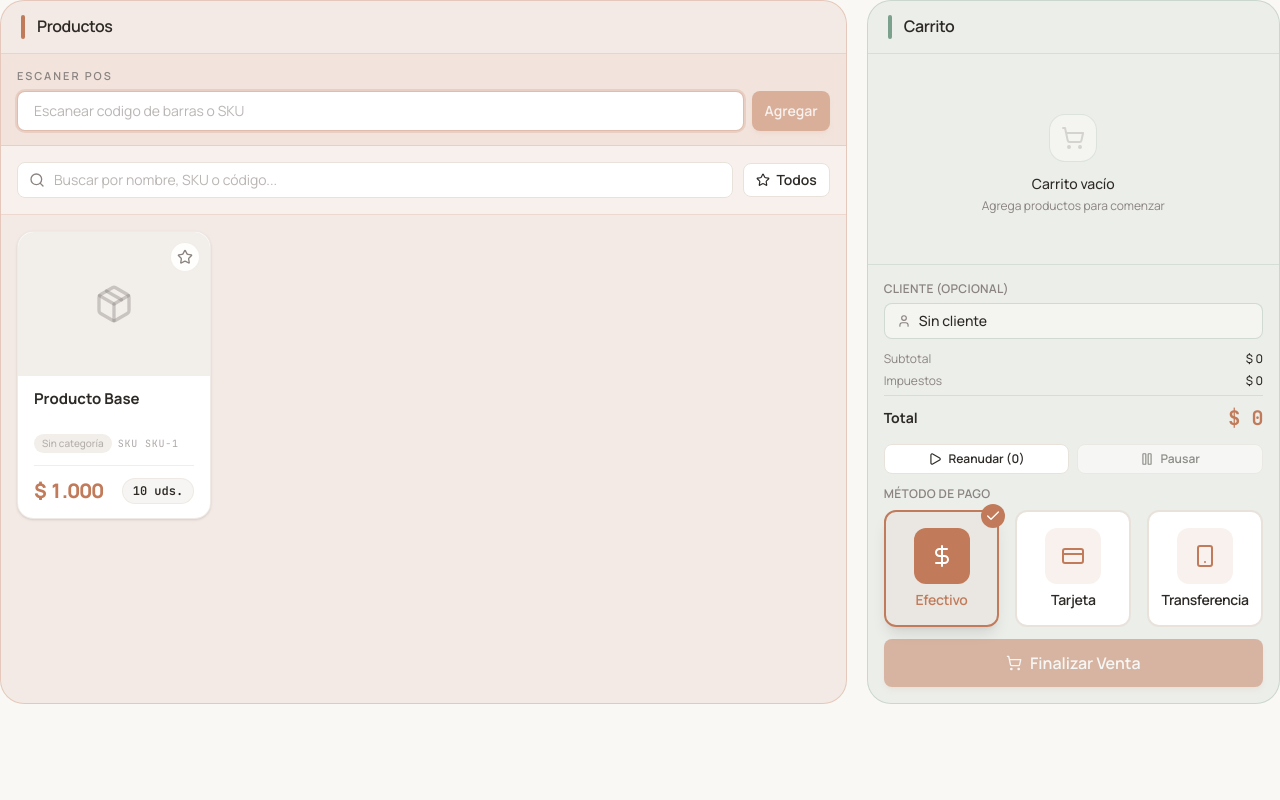
Test: POS behavior evidence (#19, #18) › #19 shows explicit empty state when search has no results
In the field with placeholder "Buscar por nombre, SKU o código...": point(375, 180) [17, 162, 733, 198], type "sinresultados"
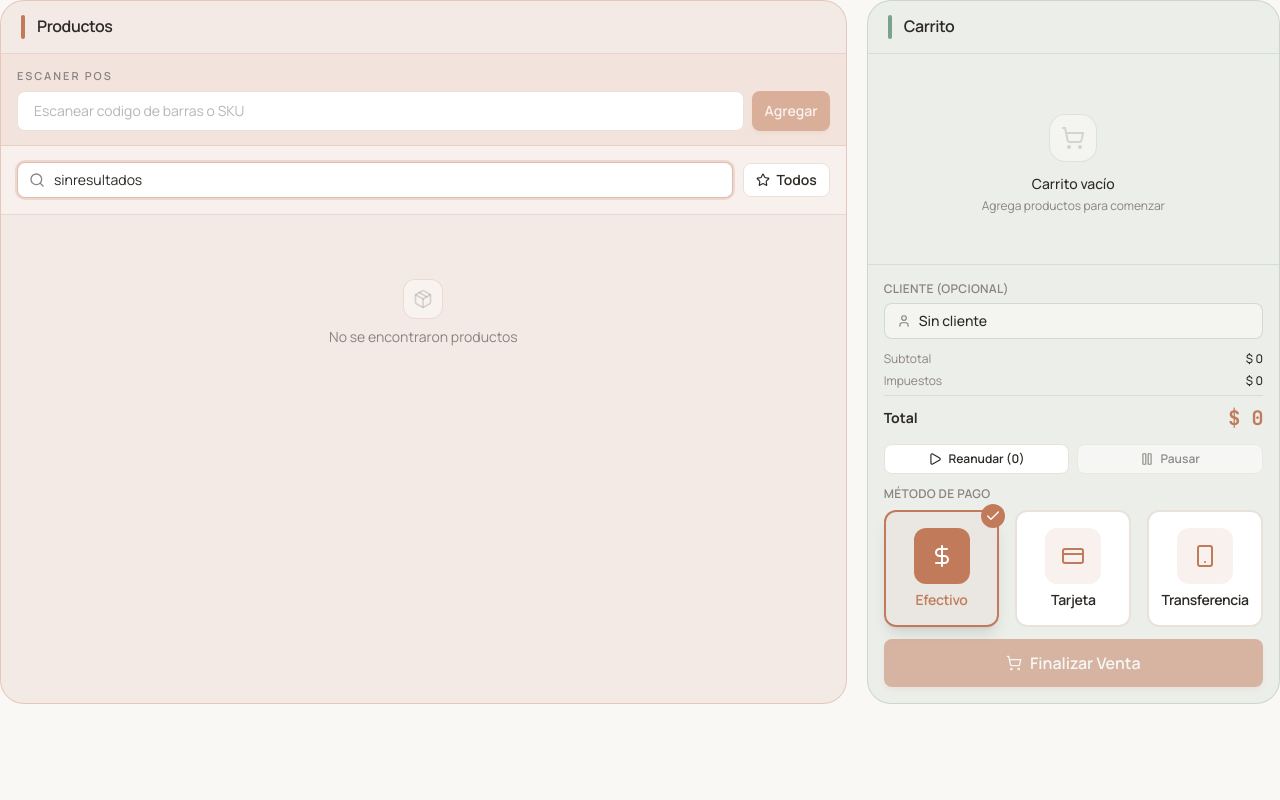
Result: the text "No se encontraron productos" is shown at [329, 326, 518, 346]
